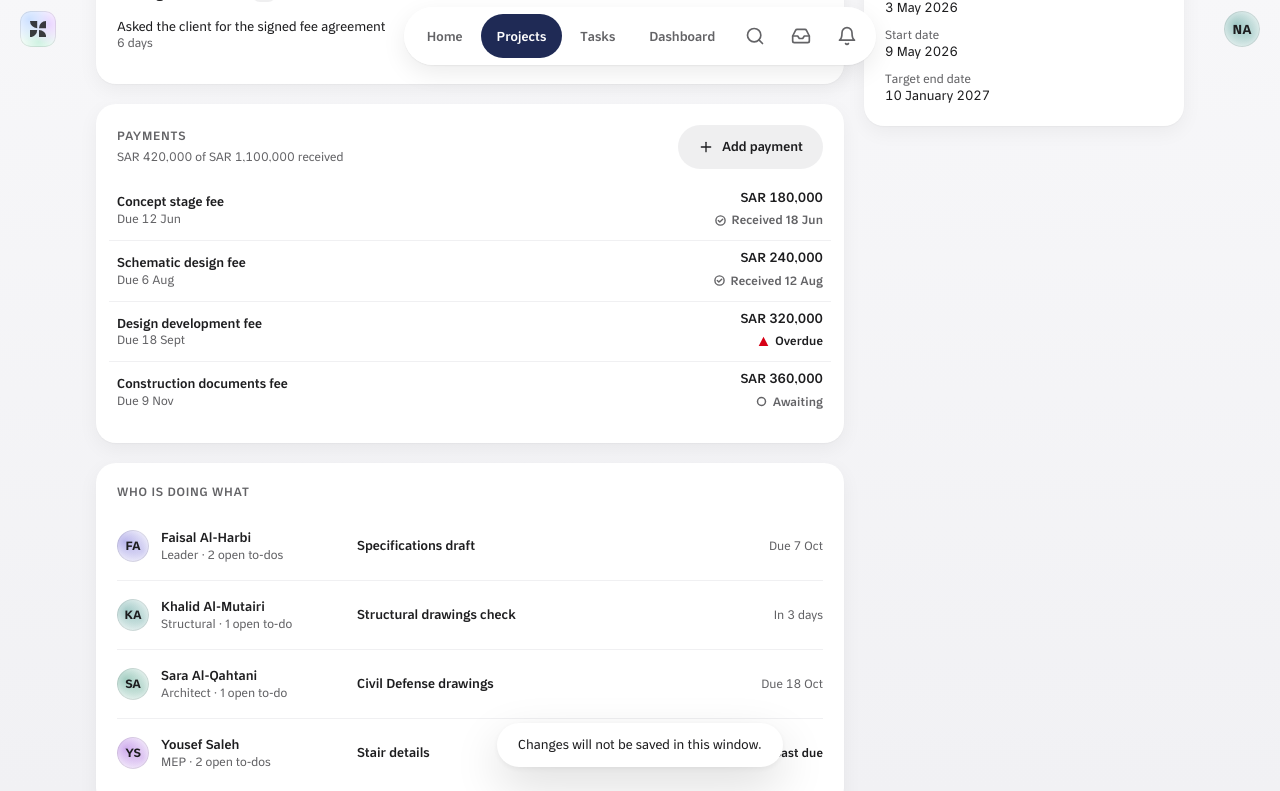
Test: no Daftra part › shows none while the status loads, and shows the part when it says ready
(page scrolled)
Click the button "Construction documents fee Due 9 Nov SAR 360,000 Awaiting" at [202, 383], box [109,362,831,422]
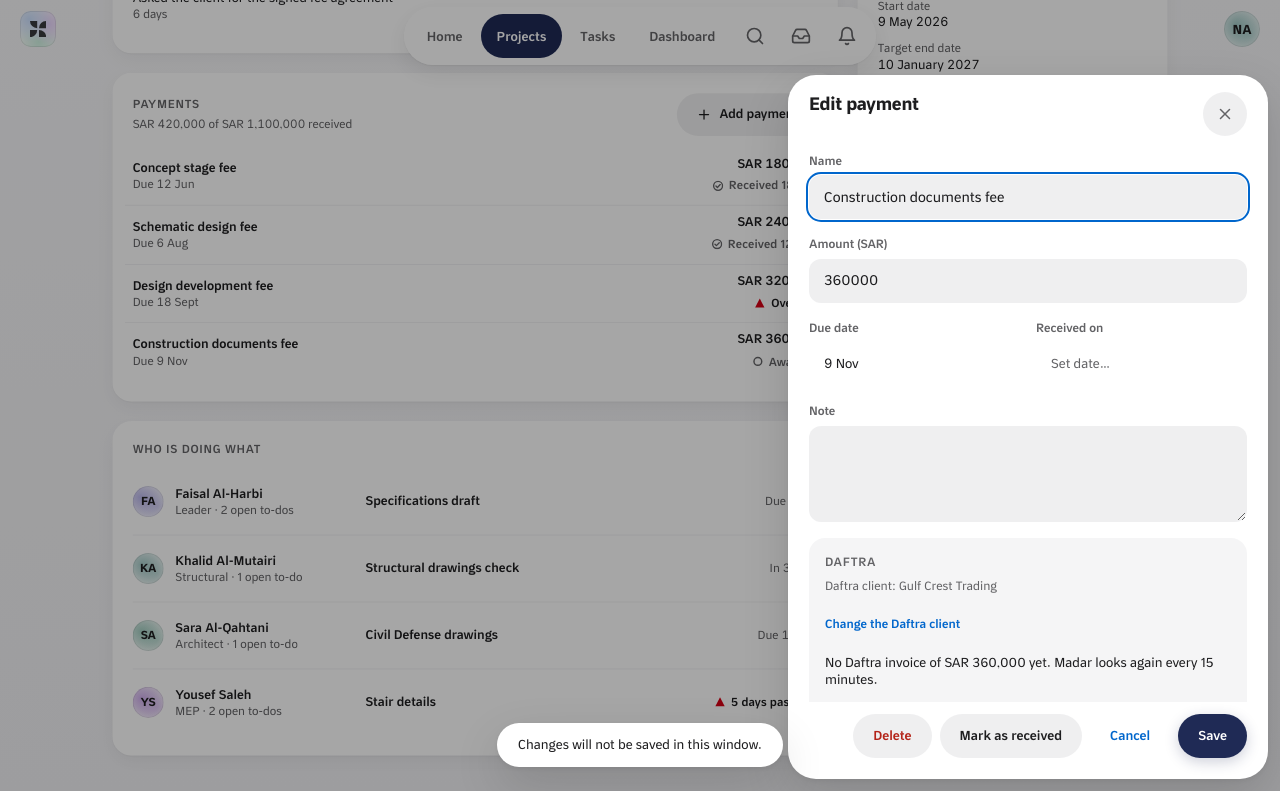
Check: the heading "Daftra" is shown, box [825,554,876,569]
